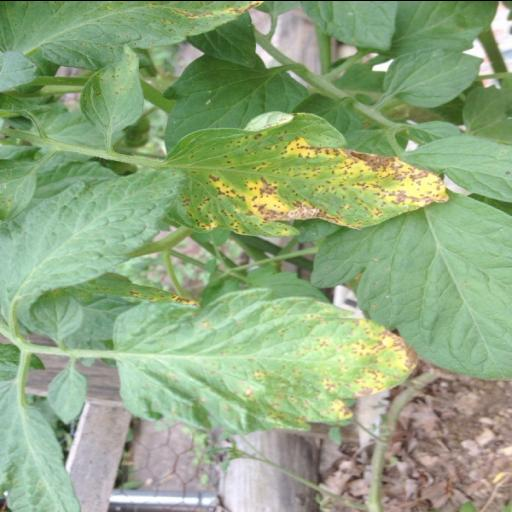Healthy: (0, 166, 182, 321), (378, 44, 486, 106), (45, 370, 89, 424)
Septoria: (108, 286, 432, 442), (158, 108, 455, 238), (0, 0, 267, 70), (75, 40, 151, 130)
